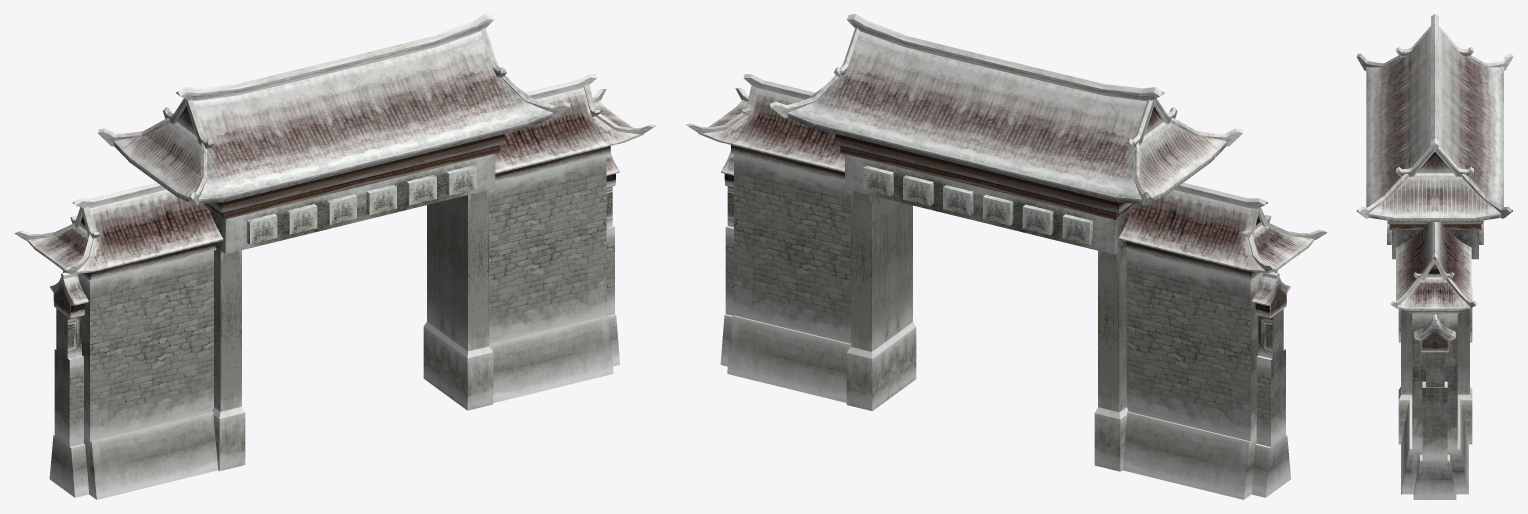
File: snow-middledam-01.fbx
The picture shows the model from 3 angles, left to right: view 1: azimuth 30°, elevation 25°; view 2: azimuth 150°, elevation 25°; view 3: azimuth 270°, elevation 25°; orthographic projection. The views are drawn at different scales.
Visible parts, largest first — view 1: snow-middledam-02, snow-middledam-01; view 2: snow-middledam-02, snow-middledam-01; view 3: snow-middledam-01, snow-middledam-02.
Boxes of the visible parts, x1,y1,x2,y2 form: snow-middledam-02: [14, 74, 655, 499]; snow-middledam-01: [98, 14, 571, 471]; snow-middledam-02: [686, 74, 1327, 499]; snow-middledam-01: [768, 14, 1242, 471]; snow-middledam-01: [1356, 14, 1513, 444]; snow-middledam-02: [1390, 222, 1477, 499].
Size of the model in its own units: 22.82 by 13.67 by 6.24.
